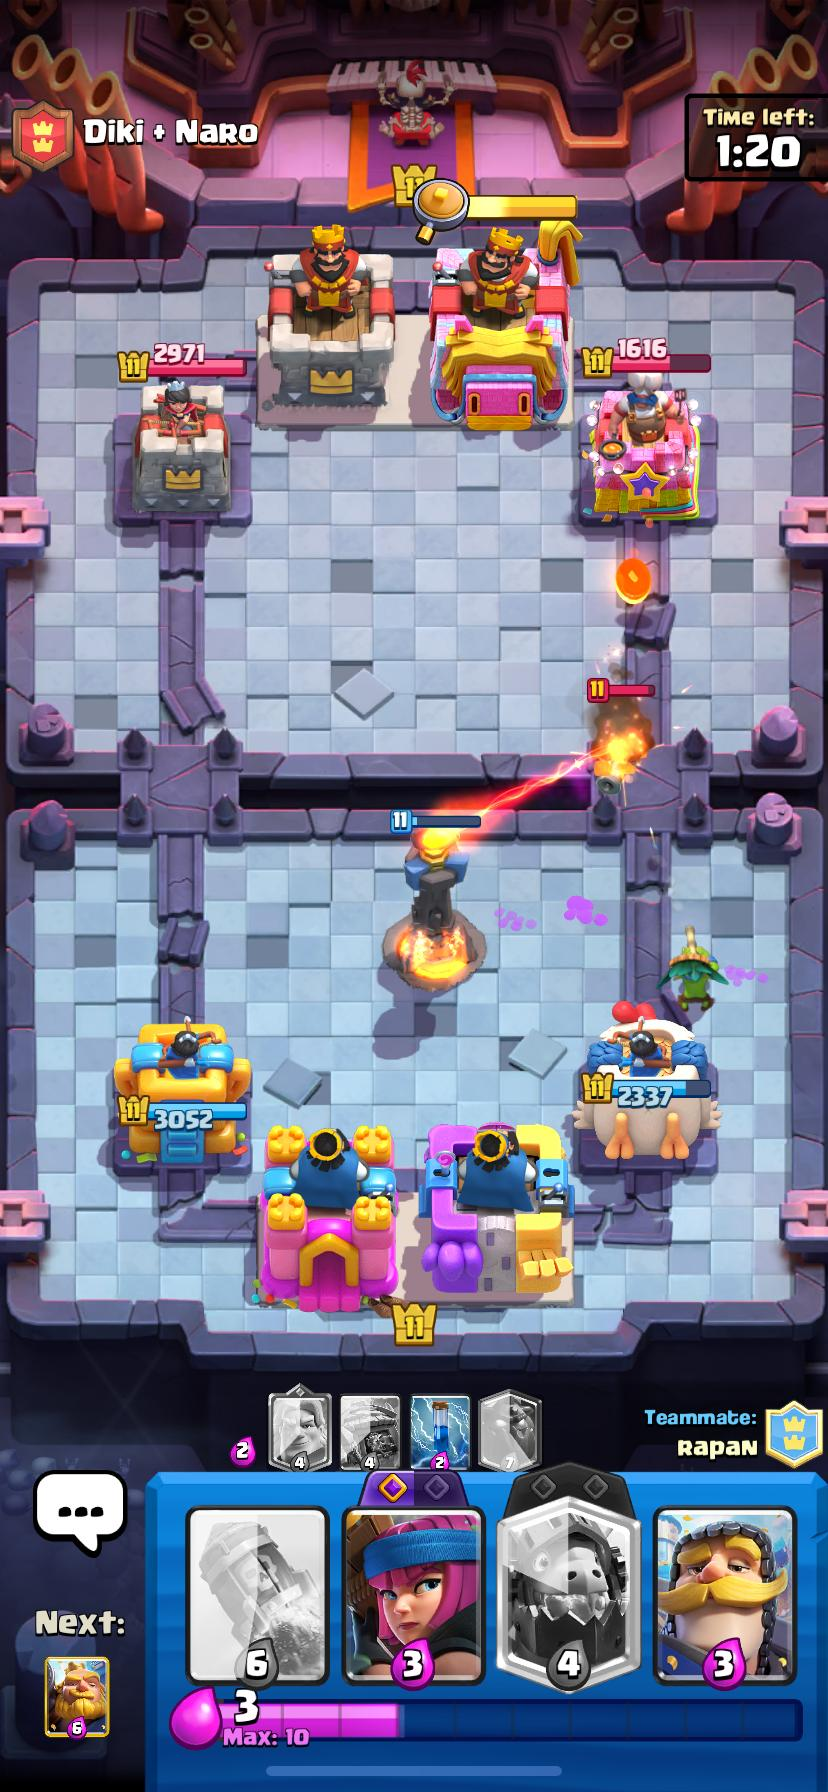EKingTower: (429, 227, 570, 430), (257, 225, 395, 413)
EnemyPanTower: (587, 387, 699, 525)
EnemyPrincessTower: (114, 379, 250, 521)
ODartGoblin: (659, 926, 729, 1022)
OInfernoTower: (383, 827, 486, 994)
OwnKingTower: (422, 1123, 573, 1301), (257, 1128, 395, 1312)
OwnPrincessTower: (578, 1003, 711, 1159), (116, 1018, 250, 1165)
